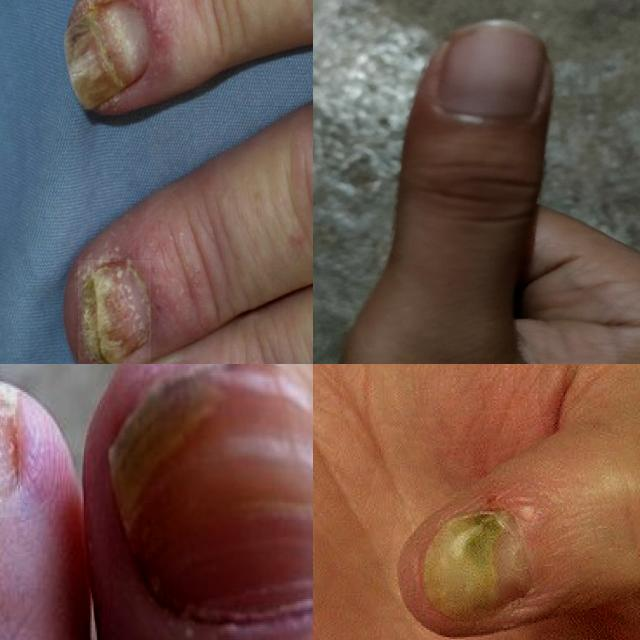diabetes: (108, 364, 313, 626), (419, 512, 531, 624), (65, 0, 151, 113), (78, 260, 151, 364)
sehat: (438, 29, 545, 117)
